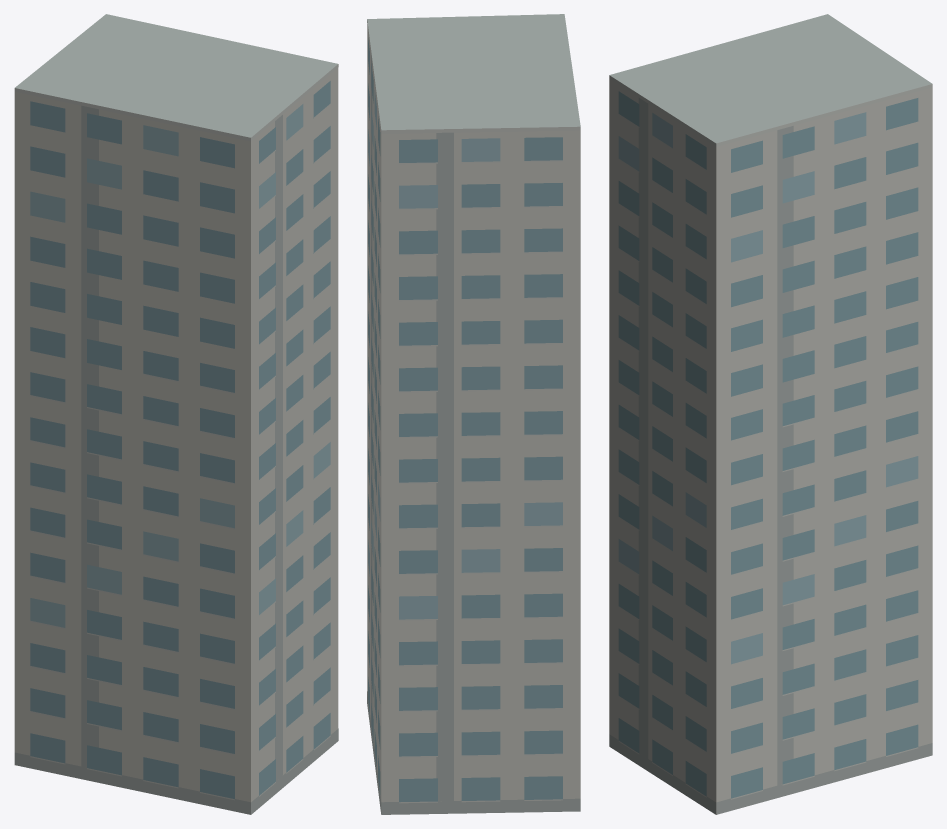
The model's file is survey-upis-32732388.glb.
The picture shows the model from 3 angles, left to right: view 1: azimuth 30°, elevation 25°; view 2: azimuth 150°, elevation 25°; view 3: azimuth 270°, elevation 25°; orthographic projection.
Parts seen in each view (by area): view 1: survey-upis-32732388.tmp; view 2: survey-upis-32732388.tmp; view 3: survey-upis-32732388.tmp.
Boxes of the visible parts, left/top/right/bottom form: survey-upis-32732388.tmp: left=14, top=14, right=338, bottom=814; survey-upis-32732388.tmp: left=367, top=14, right=580, bottom=814; survey-upis-32732388.tmp: left=609, top=14, right=932, bottom=814.
Bounding box in the file's own units: 18.92 × 45.75 × 19.98.
